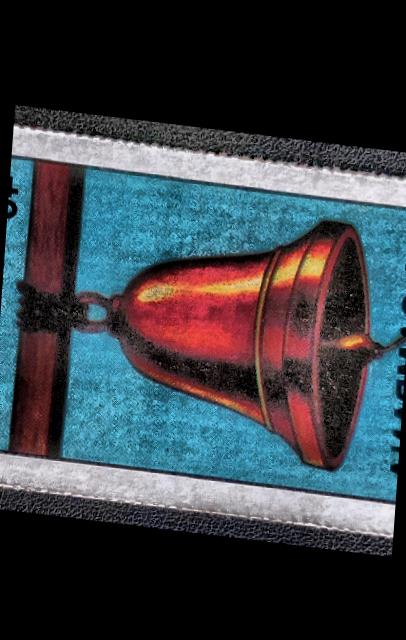La Campana: (0, 133, 406, 511)
